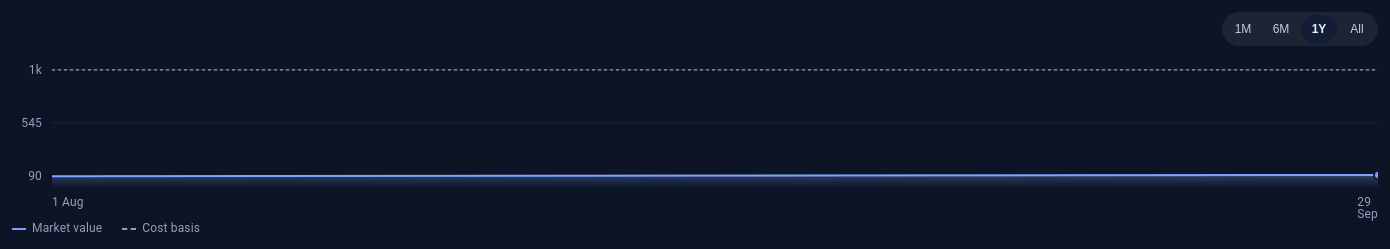
Scenario: PortfolioChart › filters by the selected range: 1M, 6M, 1Y (the start) and All
The width and height of the screenshot is (1390, 249).
Click the button "All".
click(1357, 29)  # box [1339, 15, 1375, 43]
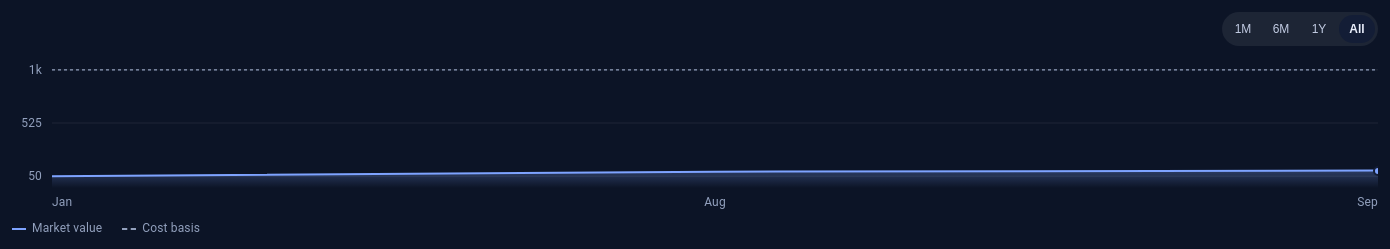
Click the button "1M".
click(1243, 29)  # box [1225, 15, 1261, 43]
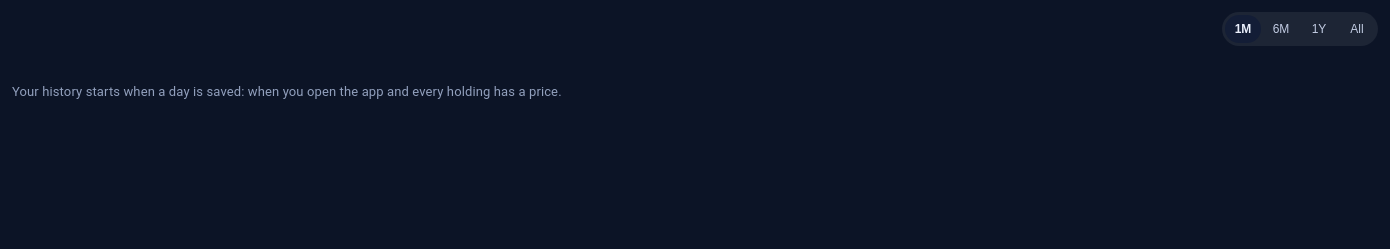
expect the text "Your history starts when a day is saved" is shown: met, box [12, 84, 562, 99]
